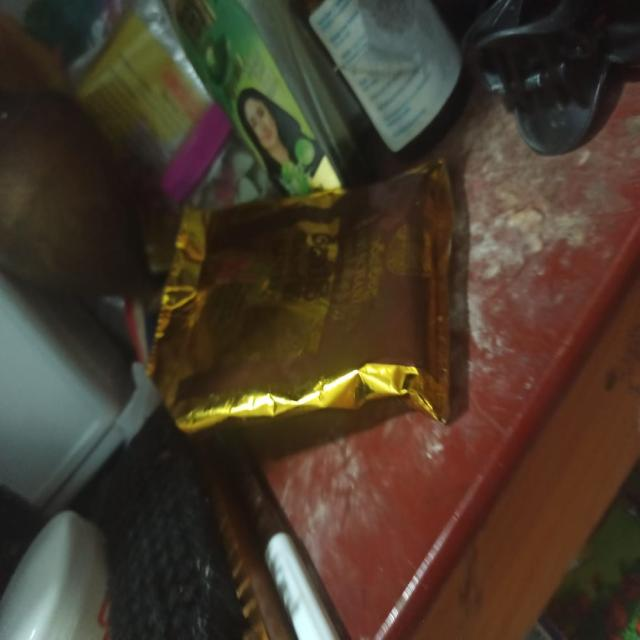Harischandra Coffee: (116, 170, 544, 524)
